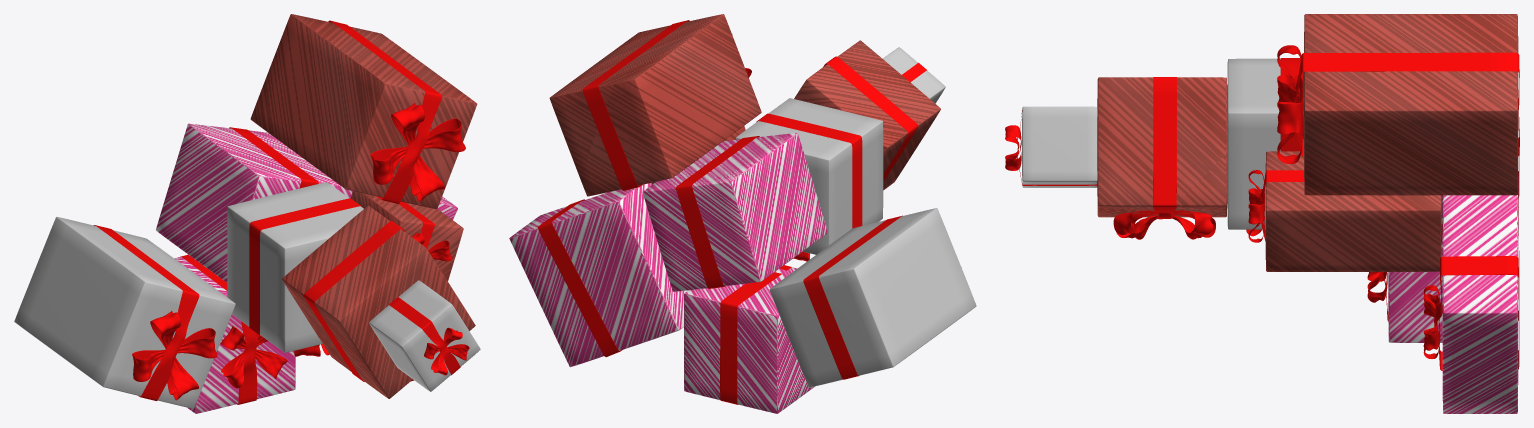
Rendered from gifts.obj.
3 renders of one model, left to right at view 1: azimuth 30°, elevation 25°; view 2: azimuth 150°, elevation 25°; view 3: azimuth 270°, elevation 25°, orthographic. The views are drawn at different scales.
Visible parts, largest first — view 1: Stack_of_Gifts_002, Stack_of_Gifts_003, Stack_of_Gifts_004, Object001, Object003, Object002, Stack_of_Gifts_028, Stack_of_Gifts_033, Stack_of_Gifts_027, Stack_of_Gifts_034, Stack_of_Gifts_022, Stack_of_Gifts_016 (+10 smaller); view 2: Stack_of_Gifts_004, Stack_of_Gifts_002, Stack_of_Gifts_003, Object003, Object001, Stack_of_Gifts_028, Stack_of_Gifts_029, Stack_of_Gifts_031, Stack_of_Gifts_033, Stack_of_Gifts_032, Stack_of_Gifts_027, Stack_of_Gifts_034 (+1 smaller); view 3: Stack_of_Gifts_002, Stack_of_Gifts_004, Object001, Object003, Object002, Stack_of_Gifts_028, Stack_of_Gifts_034, Stack_of_Gifts_029, Stack_of_Gifts_022, Stack_of_Gifts_036, Stack_of_Gifts_035, Stack_of_Gifts_016 (+4 smaller).
Boxes of the visible parts, bbox=[...] form: Stack_of_Gifts_002: bbox=[250, 14, 477, 281]; Stack_of_Gifts_003: bbox=[14, 217, 235, 408]; Stack_of_Gifts_004: bbox=[156, 123, 457, 413]; Object001: bbox=[282, 205, 475, 398]; Object003: bbox=[227, 182, 363, 352]; Object002: bbox=[369, 280, 480, 391]; Stack_of_Gifts_028: bbox=[328, 20, 442, 203]; Stack_of_Gifts_033: bbox=[93, 225, 199, 400]; Stack_of_Gifts_027: bbox=[249, 198, 362, 336]; Stack_of_Gifts_034: bbox=[304, 221, 404, 381]; Stack_of_Gifts_022: bbox=[370, 118, 465, 184]; Stack_of_Gifts_016: bbox=[391, 103, 444, 201]; Stack_of_Gifts_004: bbox=[509, 133, 827, 413]; Stack_of_Gifts_002: bbox=[549, 14, 761, 196]; Stack_of_Gifts_003: bbox=[769, 208, 976, 387]; Object003: bbox=[735, 98, 883, 254]; Object001: bbox=[794, 40, 940, 190]; Stack_of_Gifts_028: bbox=[582, 20, 689, 190]; Stack_of_Gifts_029: bbox=[538, 199, 622, 357]; Stack_of_Gifts_031: bbox=[676, 136, 759, 288]; Stack_of_Gifts_033: bbox=[803, 215, 902, 379]; Stack_of_Gifts_032: bbox=[720, 265, 791, 404]; Stack_of_Gifts_027: bbox=[756, 113, 862, 228]; Stack_of_Gifts_034: bbox=[823, 56, 918, 181]; Stack_of_Gifts_002: bbox=[1265, 14, 1518, 271]; Stack_of_Gifts_004: bbox=[1388, 174, 1518, 413]; Object001: bbox=[1097, 77, 1227, 217]; Object003: bbox=[1227, 58, 1280, 229]; Object002: bbox=[1022, 106, 1097, 187]; Stack_of_Gifts_028: bbox=[1294, 52, 1519, 157]; Stack_of_Gifts_034: bbox=[1153, 77, 1176, 219]; Stack_of_Gifts_029: bbox=[1434, 256, 1519, 370]; Stack_of_Gifts_022: bbox=[1277, 74, 1303, 134]; Stack_of_Gifts_036: bbox=[1116, 210, 1213, 239]; Stack_of_Gifts_035: bbox=[1113, 210, 1215, 239]; Stack_of_Gifts_016: bbox=[1277, 45, 1303, 163].
Bounding box in the file's own units: 170 × 129 × 166.
